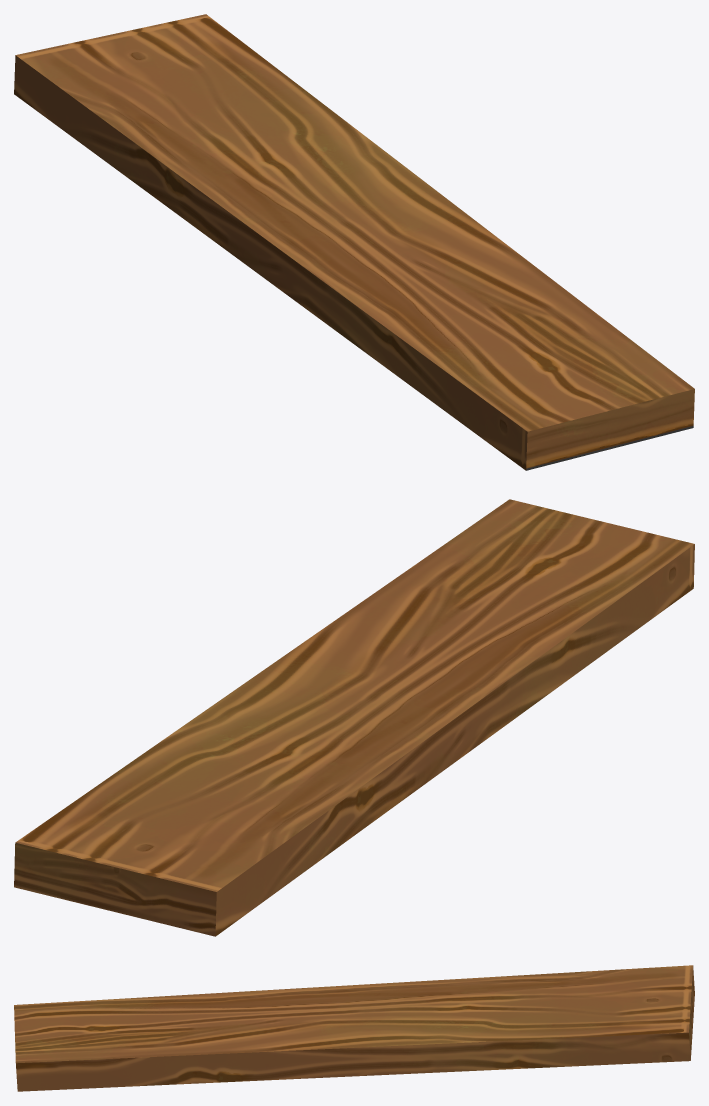
3 renders of one model, top to bottom at view 1: azimuth 30°, elevation 25°; view 2: azimuth 150°, elevation 25°; view 3: azimuth 270°, elevation 25°, orthographic. The views are drawn at different scales.
Visible parts, largest first — view 1: Cube.875; view 2: Cube.875; view 3: Cube.875.
Boxes of the visible parts, bbox=[...] form: Cube.875: bbox=[14, 14, 694, 470]; Cube.875: bbox=[14, 499, 694, 936]; Cube.875: bbox=[14, 965, 694, 1091].
Size of the model in its own units: 57.51 by 20.75 by 231.
1 material, 1 textured.
